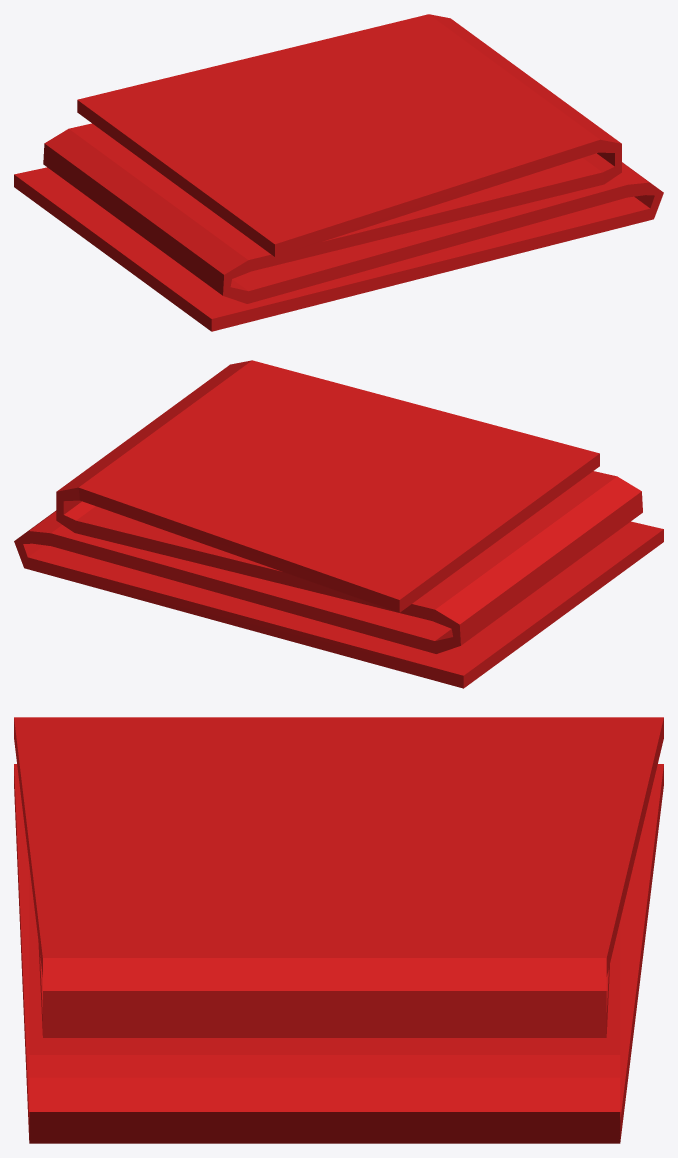
The model's file is SM_cloth_folded.FBX.
The picture shows the model from 3 angles, top to bottom: view 1: azimuth 30°, elevation 25°; view 2: azimuth 150°, elevation 25°; view 3: azimuth 270°, elevation 25°; orthographic projection. The views are drawn at different scales.
Visible parts, largest first — view 1: Line038; view 2: Line038; view 3: Line038.
Boxes of the visible parts, bbox=[...] form: Line038: bbox=[14, 14, 663, 331]; Line038: bbox=[14, 360, 663, 688]; Line038: bbox=[14, 717, 663, 1143].
Size of the model in its own units: 116 by 21.52 by 86.91.
